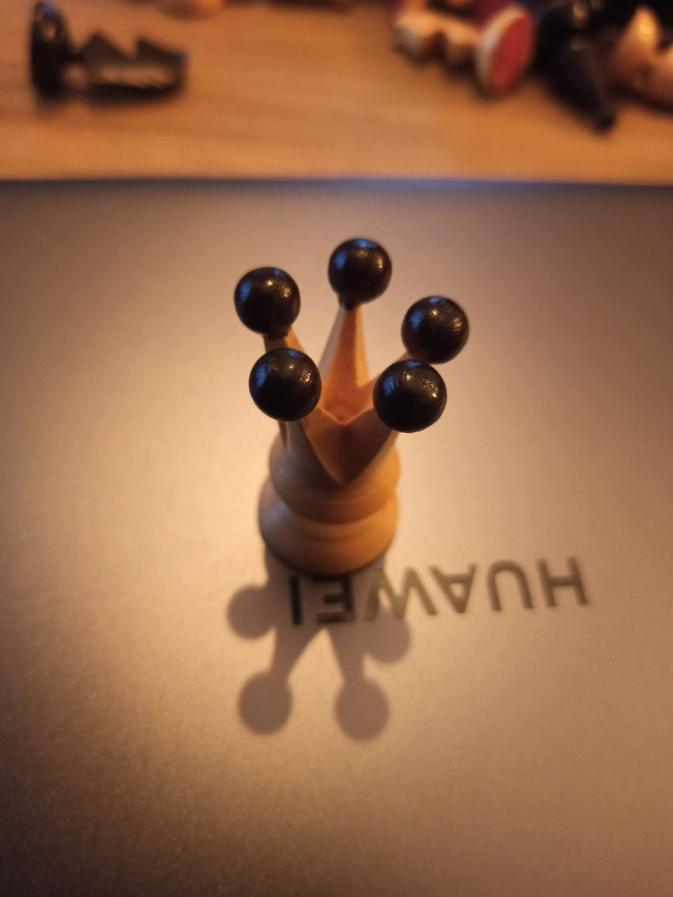wqueen: (231, 237, 475, 583)
